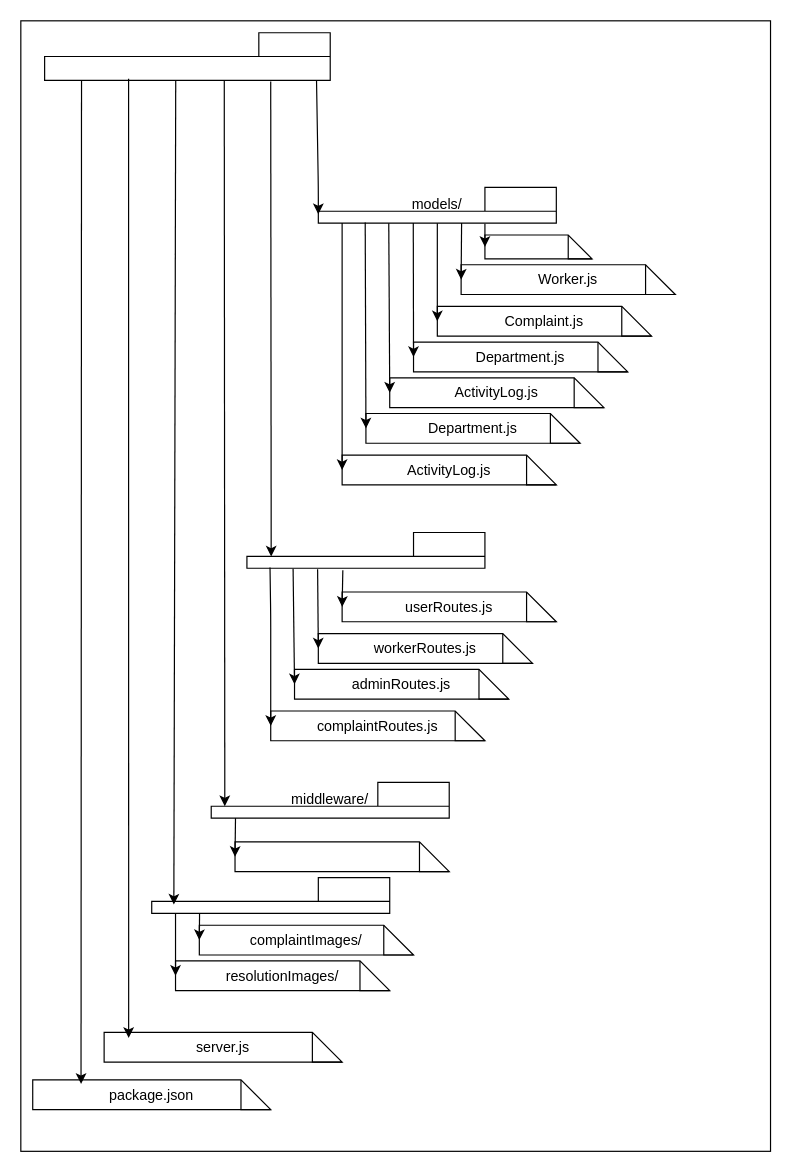
Some shapes in this 791 by 1172 pixel diagram are drawn without their labels. The box of each missing label's shape, as (x1, y1, x2, y2) in pixels:
auth.js: (234, 841, 449, 872)
Backend/: (43, 32, 330, 80)
routes/: (246, 531, 485, 568)
uploads/: (151, 876, 390, 913)
User.js: (484, 234, 592, 259)
